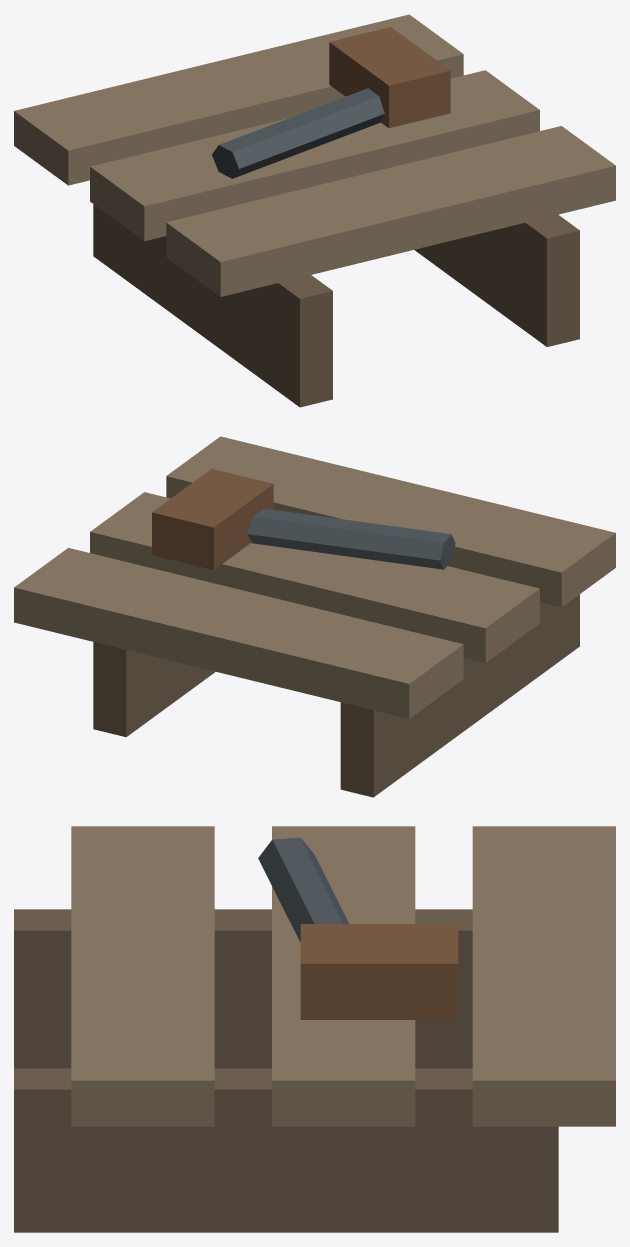
File: work_site.glb
The picture shows the model from 3 angles, top to bottom: view 1: azimuth 30°, elevation 25°; view 2: azimuth 150°, elevation 25°; view 3: azimuth 270°, elevation 25°; orthographic projection. The views are drawn at different scales.
Parts seen in each view (by area): view 1: work_site; view 2: work_site; view 3: work_site.
Boxes of the visible parts, box(x1,y1,x2,y2) form: work_site: box(14, 14, 615, 407); work_site: box(14, 436, 615, 797); work_site: box(14, 826, 615, 1232).
Bounding box in the file's own units: 0.96 × 0.45 × 0.96.
